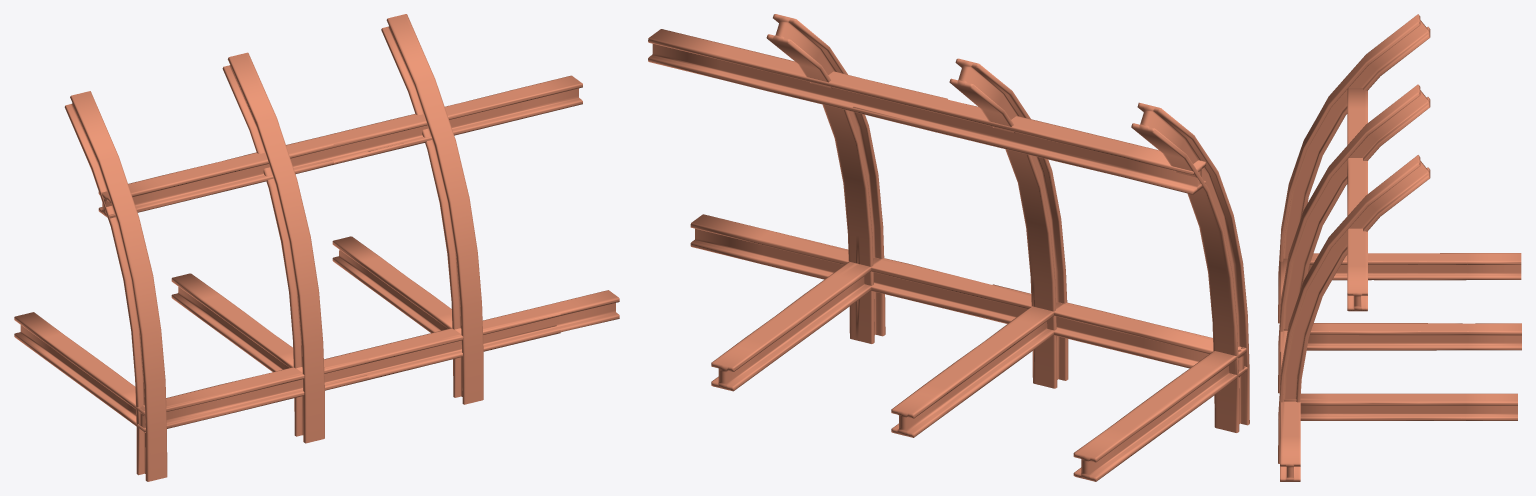
Rendered from Industrial_New_Arch_Left_End.fbx.
The picture shows the model from 3 angles, left to right: view 1: azimuth 30°, elevation 25°; view 2: azimuth 150°, elevation 25°; view 3: azimuth 270°, elevation 25°; orthographic projection. The views are drawn at different scales.
Parts seen in each view (by area): view 1: NurbsPath.033; view 2: NurbsPath.033; view 3: NurbsPath.033.
Boxes of the visible parts, x1=… form: NurbsPath.033: x1=14, y1=14, x2=619, y2=481; NurbsPath.033: x1=648, y1=14, x2=1249, y2=481; NurbsPath.033: x1=1278, y1=14, x2=1521, y2=481.
Size of the model in its own units: 600 by 400 by 294.
